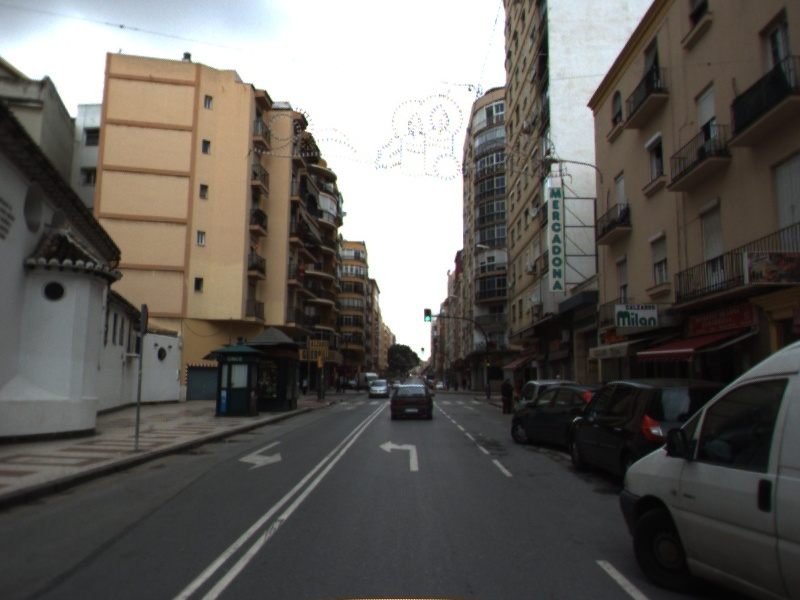LEFT: (378, 439, 420, 472)
